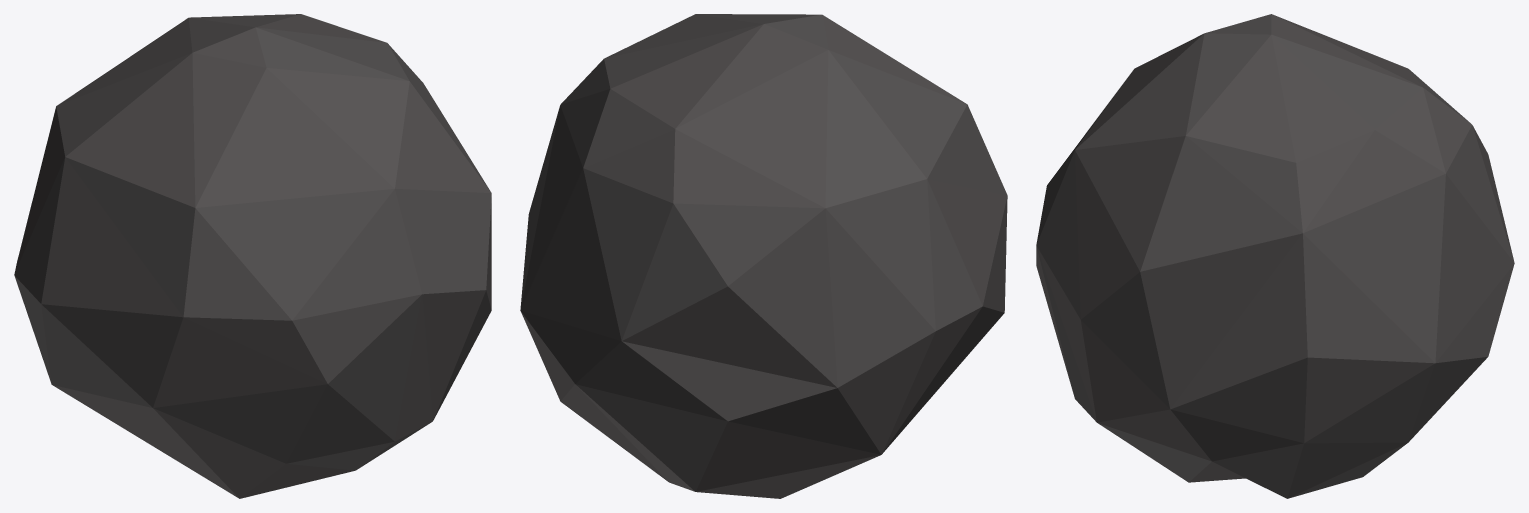
File: LPSWP_CatapultRock02.fbx
3 renders of one model, left to right at view 1: azimuth 30°, elevation 25°; view 2: azimuth 150°, elevation 25°; view 3: azimuth 270°, elevation 25°, orthographic. The views are drawn at different scales.
Visible parts, largest first — view 1: LPSWP_CatapultRock02; view 2: LPSWP_CatapultRock02; view 3: LPSWP_CatapultRock02.
Part boxes in pixels (x1,y1,x2,y2): LPSWP_CatapultRock02: (14,14,491,498); LPSWP_CatapultRock02: (520,14,1007,498); LPSWP_CatapultRock02: (1036,14,1514,498).
Size of the model in its own units: 0.4845 by 0.4873 by 0.4778.
